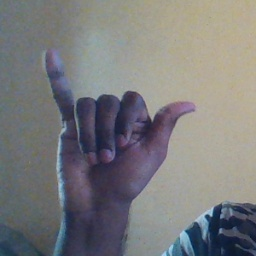J: (40, 46, 198, 195)
